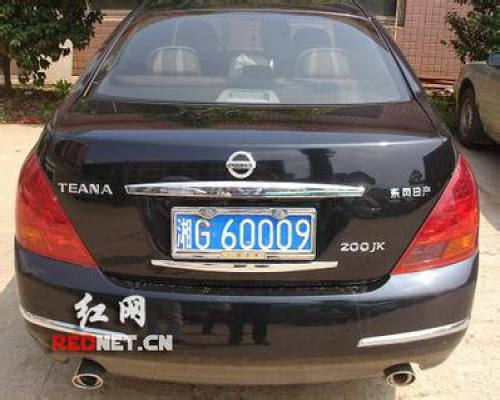Carplate: (165, 203, 326, 262)
